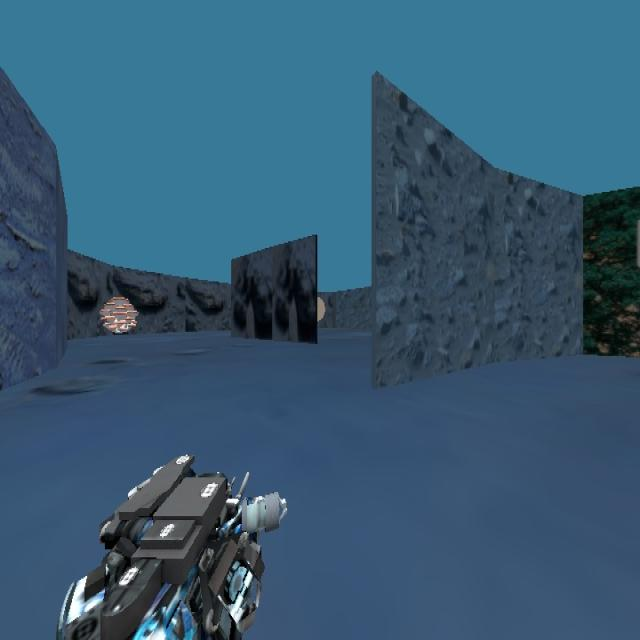Circle: (306, 290, 335, 346)
Mushroom: (98, 295, 137, 337)
